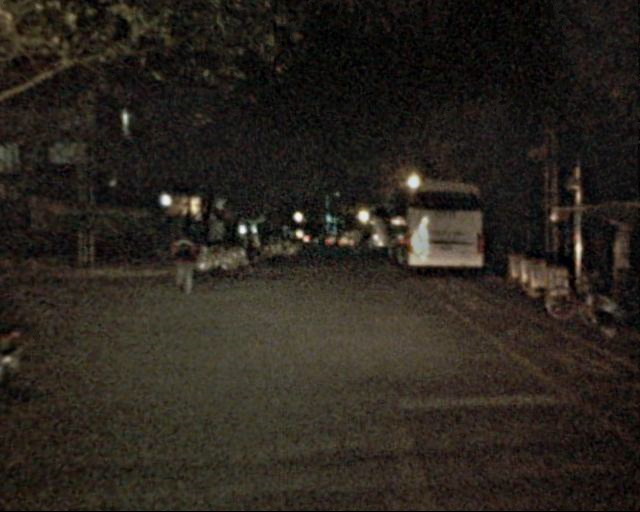person: (169, 219, 201, 298), (237, 220, 258, 270), (351, 227, 373, 257)
